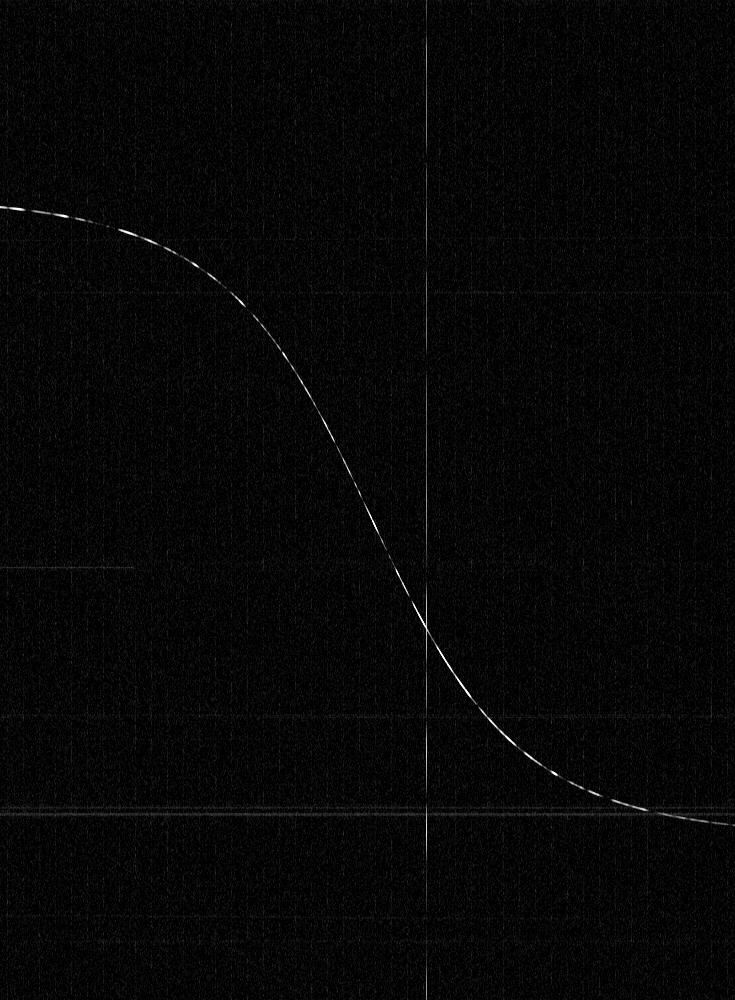signal: (0, 0, 734, 999)
